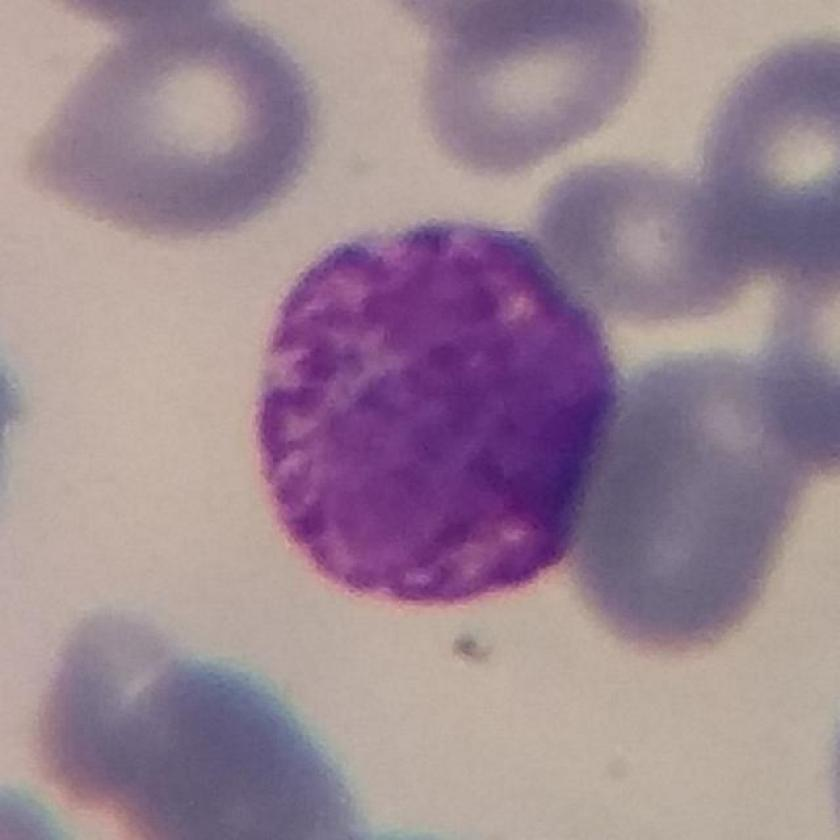basophil: (248, 214, 632, 618)
